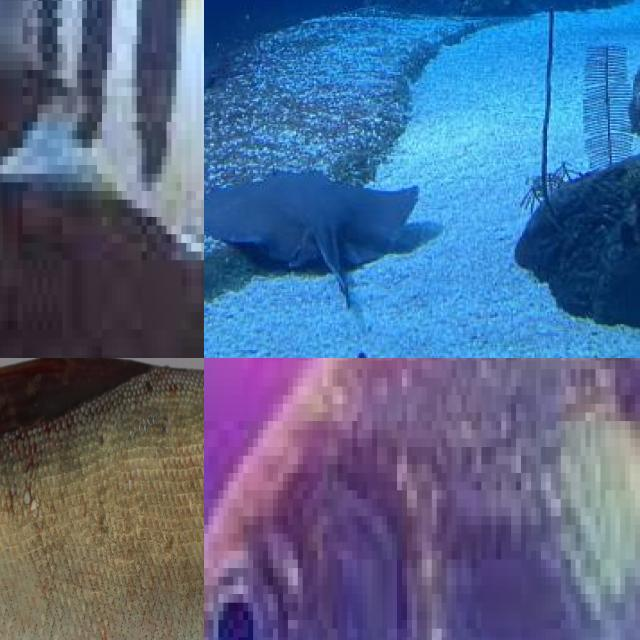fish: (204, 358, 640, 640), (0, 0, 204, 358), (0, 358, 204, 640)
